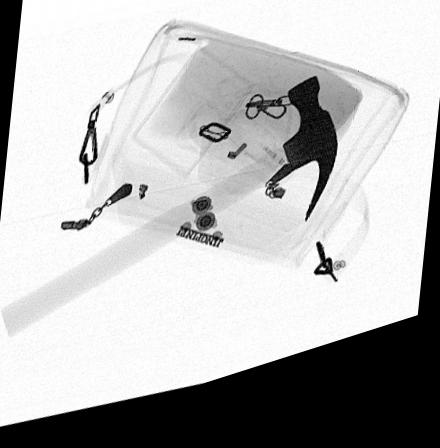Hammer: (0, 92, 338, 338)
